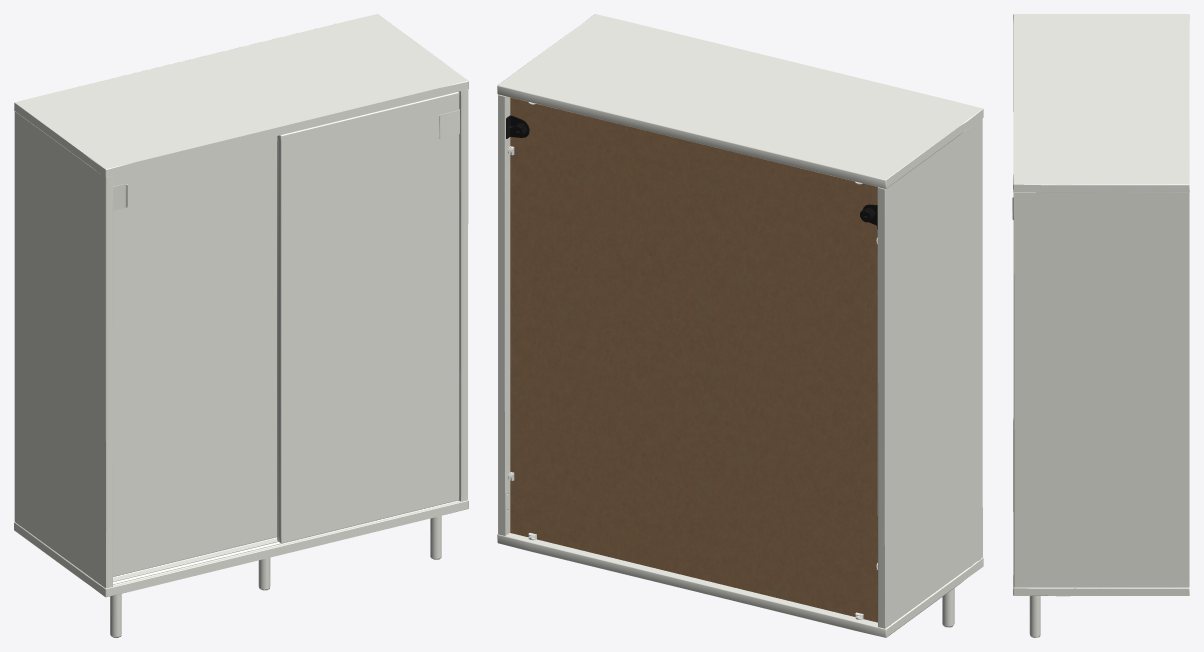
File: mackapar_szafka_na_buty_50334751.glb
3 renders of one model, left to right at view 1: azimuth 30°, elevation 25°; view 2: azimuth 150°, elevation 25°; view 3: azimuth 270°, elevation 25°, orthographic. The views are drawn at different scales.
Parts seen in each view (by area): view 1: mackapar_szafka_na_buty_50334751; view 2: mackapar_szafka_na_buty_50334751; view 3: mackapar_szafka_na_buty_50334751.
Boxes of the visible parts, x1,y1,x2,y2 form: mackapar_szafka_na_buty_50334751: (14, 14, 468, 637); mackapar_szafka_na_buty_50334751: (497, 14, 983, 637); mackapar_szafka_na_buty_50334751: (1012, 14, 1189, 637).
Bounding box in the file's own units: 0.8 × 1.01 × 0.3516.
Materials: 2 (2 with a texture image).
